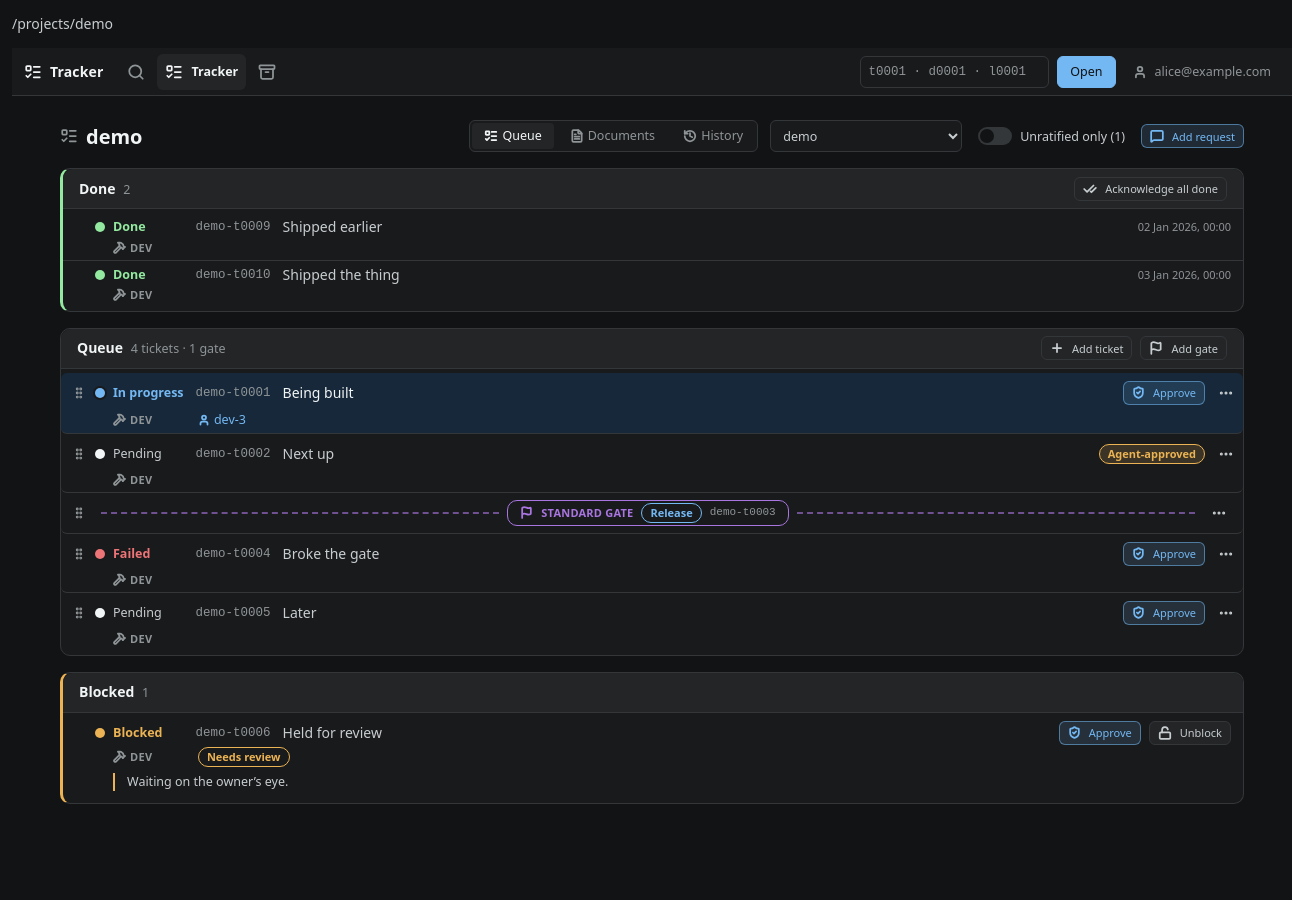
Scenario: the tracker in the shell › switches project from the picker
Expected: the heading "demo" is shown, [86,124,142,149]
Select "other" in the dropdown named "Project" at (866, 136), box [770,120,962,152]
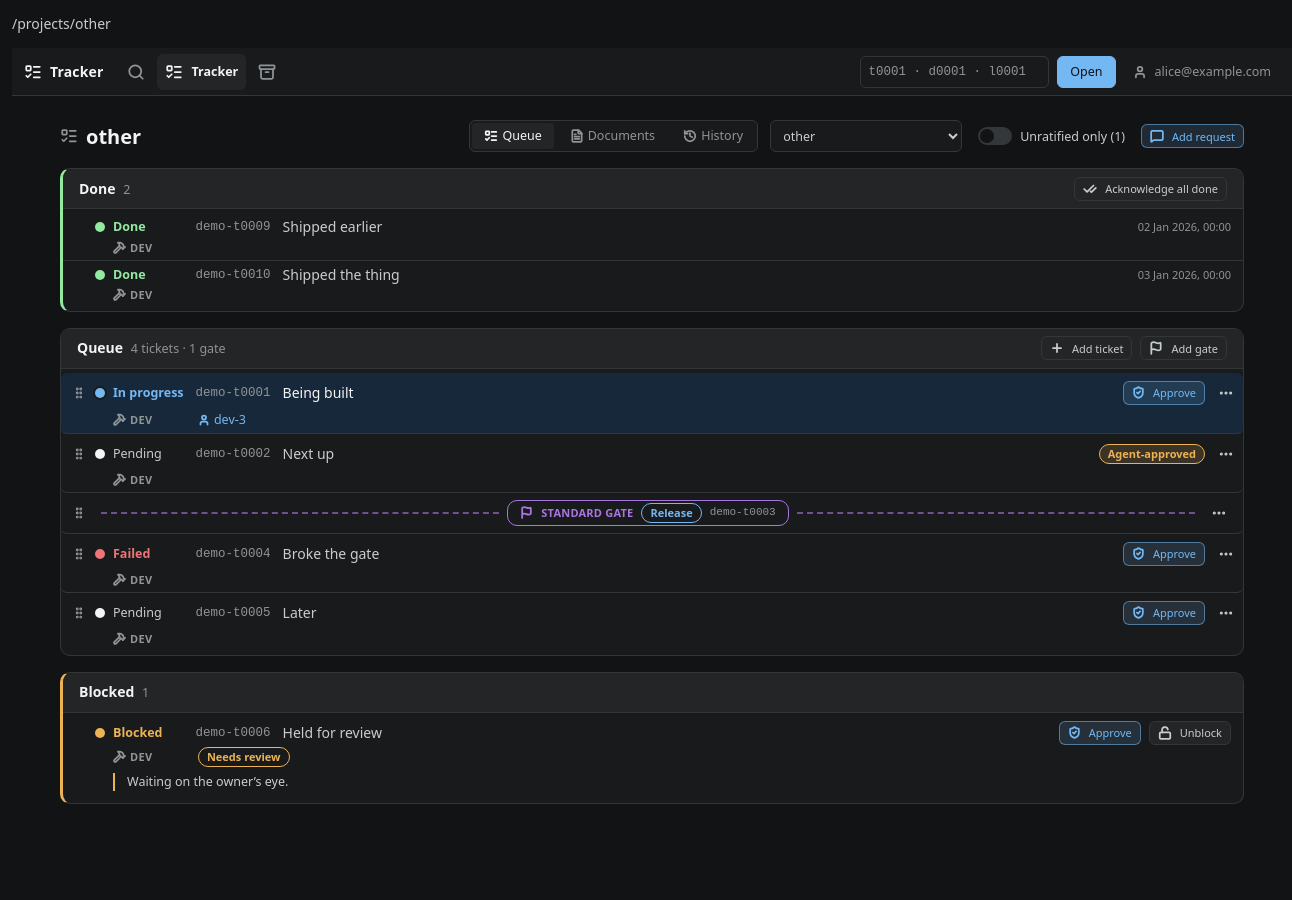
Now the text with test id "address" reads "/projects/other", box [12,14,111,33]
